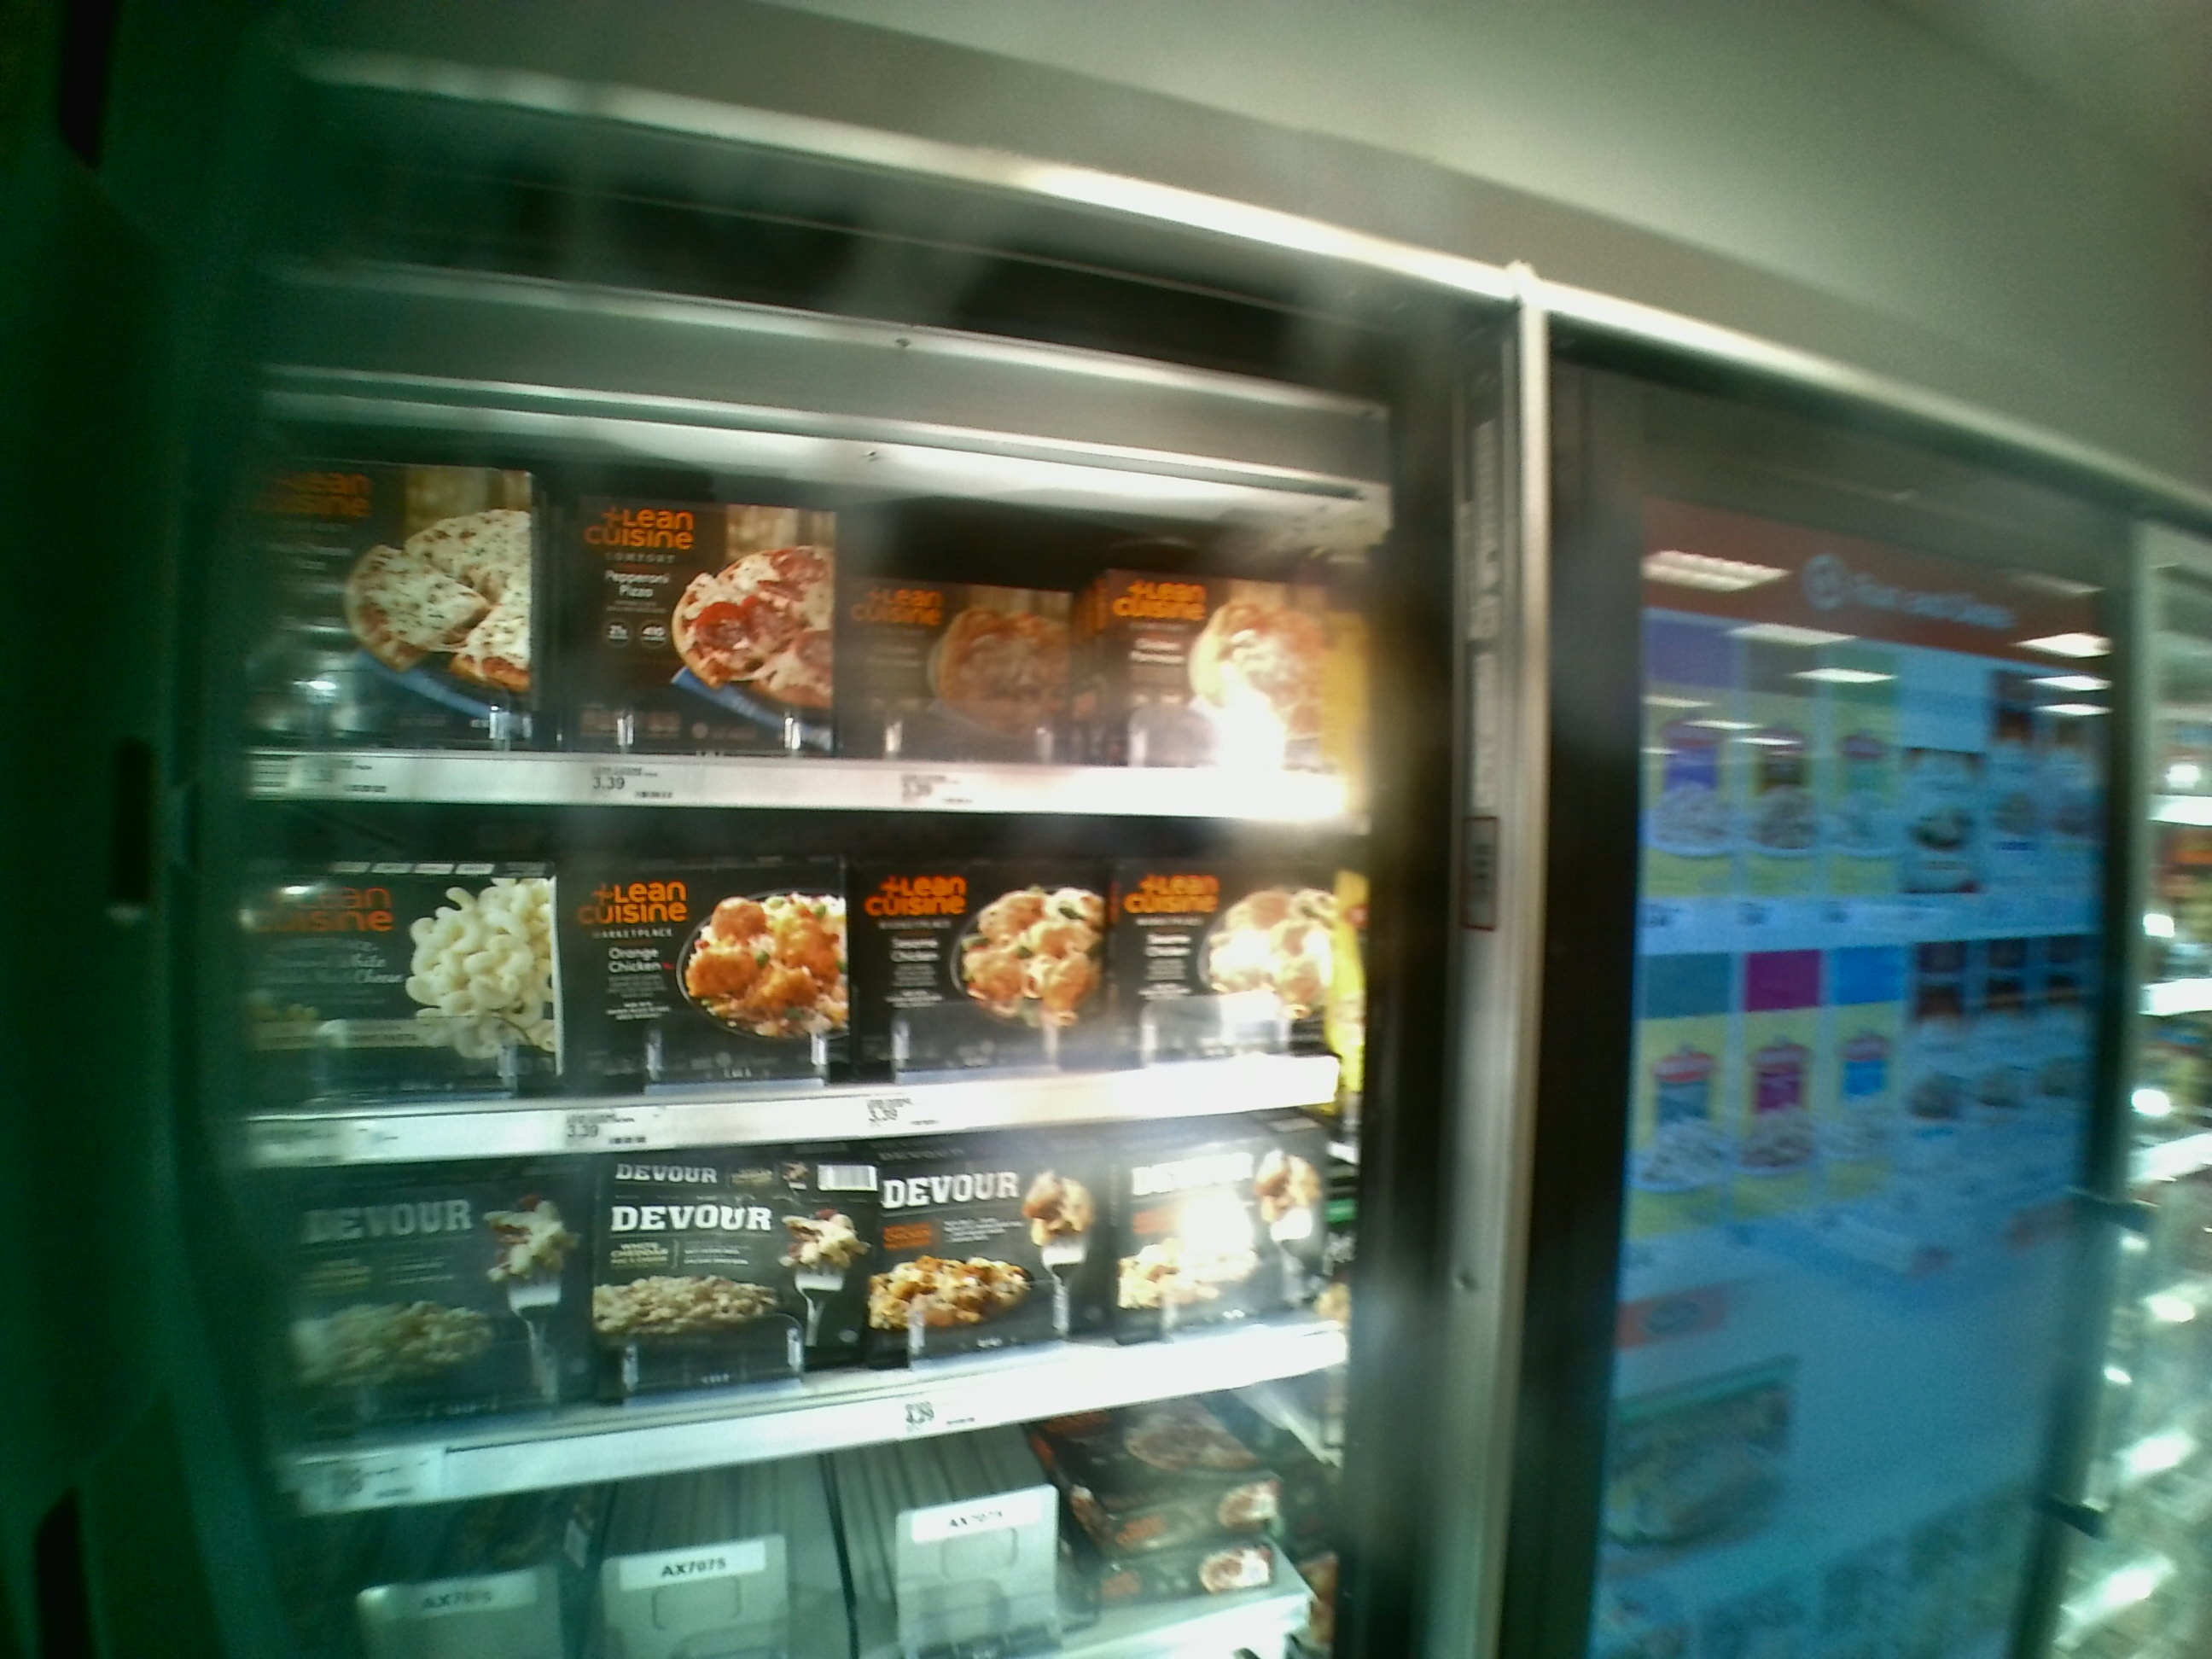shelf: (221, 392, 1379, 823), (230, 798, 1362, 1168)
